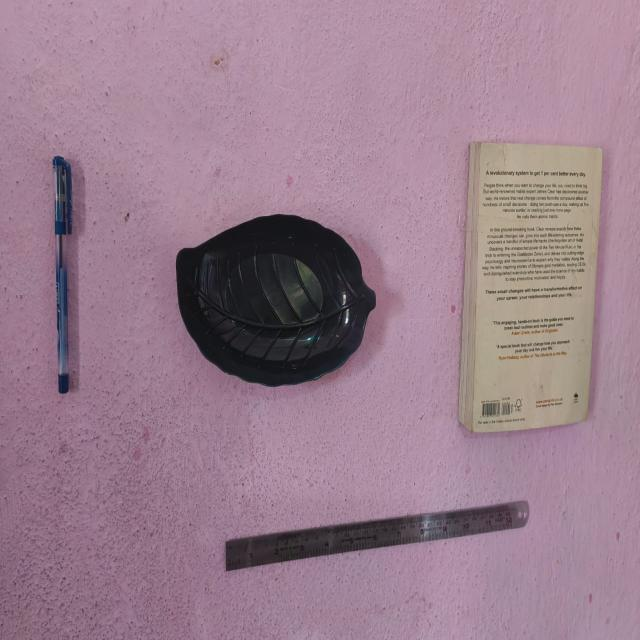Book: (453, 134, 608, 439)
blessing_card: (47, 156, 76, 395)
pen: (172, 210, 380, 387)
plate: (220, 496, 538, 576)
